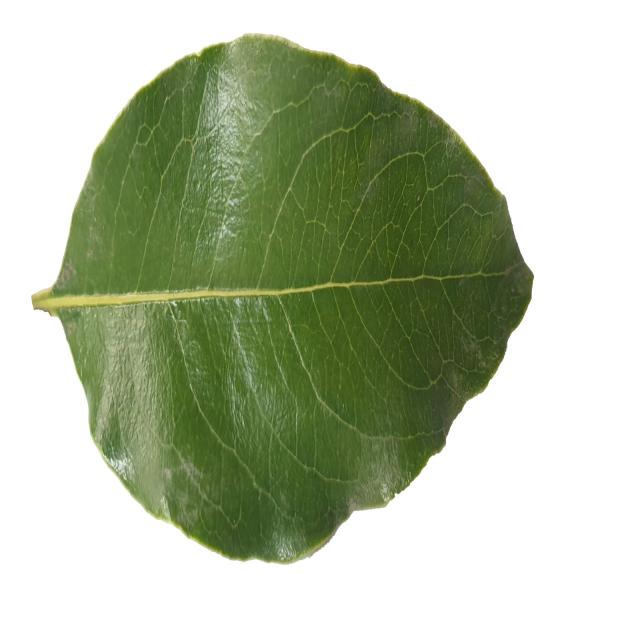Medicinal-Sandalwood: (30, 31, 535, 571)
